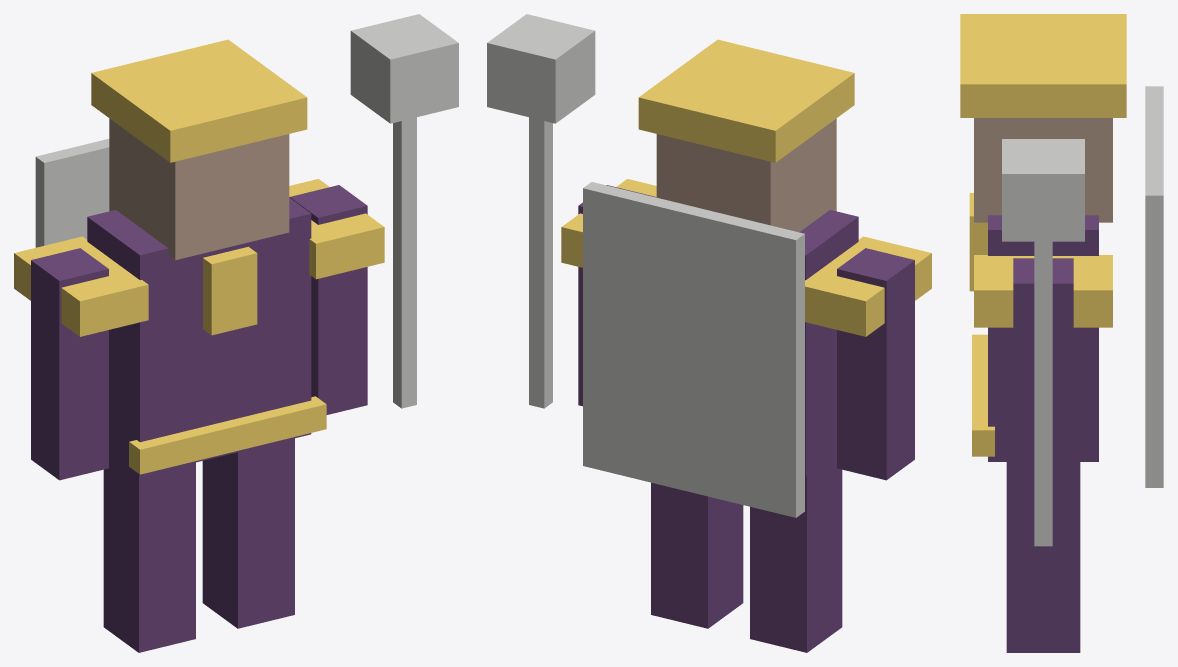
File: 14_makoa_holloway_warden_under_hidden.glb
3 views of the same model, side by side, from view 1: azimuth 30°, elevation 25°; view 2: azimuth 150°, elevation 25°; view 3: azimuth 270°, elevation 25° (orthographic). The views are drawn at different scales.
Visible parts, largest first — view 1: Makoa Holloway, Warden under Hidden; view 2: Makoa Holloway, Warden under Hidden; view 3: Makoa Holloway, Warden under Hidden.
Part boxes in pixels (x1,y1,x2,y2): Makoa Holloway, Warden under Hidden: [14, 14, 458, 652]; Makoa Holloway, Warden under Hidden: [487, 14, 931, 652]; Makoa Holloway, Warden under Hidden: [960, 14, 1163, 652].
Size of the model in its own units: 1.13 by 1.47 by 0.4806.
